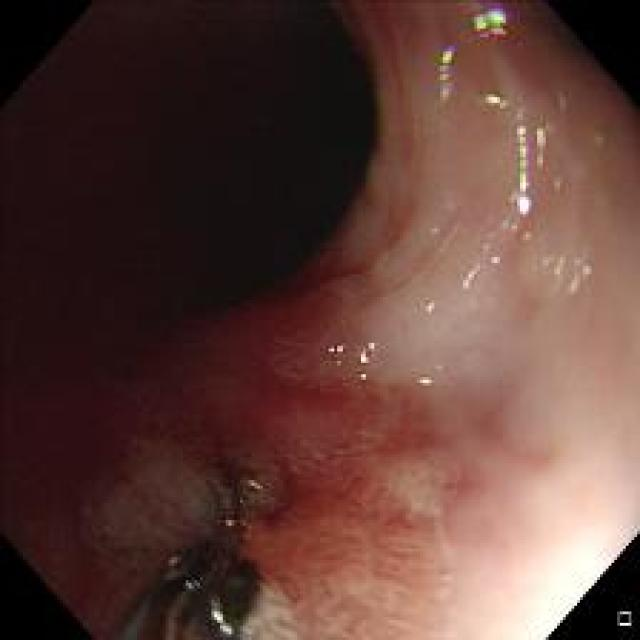color misalignment: (482, 78, 554, 296), (430, 34, 460, 116), (472, 5, 516, 51)
contrast: (4, 2, 376, 311), (1, 291, 259, 470)
instrument: (99, 445, 279, 636)
saturation: (525, 559, 610, 636)
specularity: (322, 331, 381, 391), (512, 124, 532, 220), (461, 262, 476, 289), (485, 91, 506, 108), (416, 372, 434, 386), (425, 299, 436, 314), (490, 255, 500, 265)
